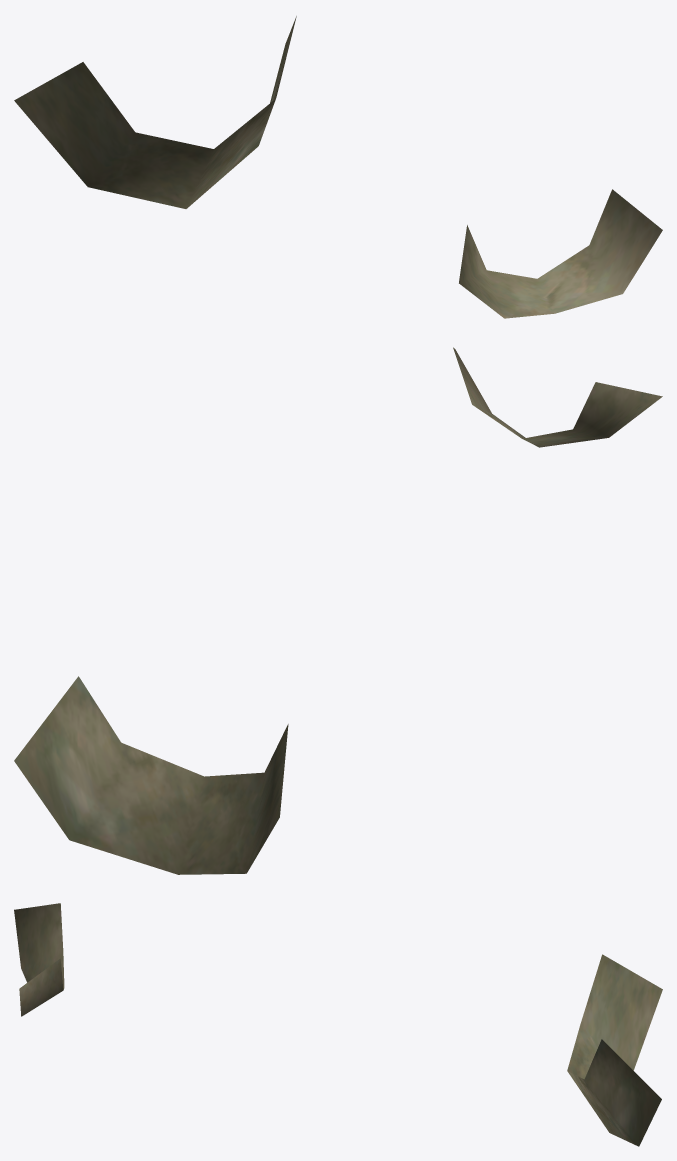
File: EKH_CAVERNS_PS_CA_LINE325.fbx
3 views of the same model, one above another, from view 1: azimuth 30°, elevation 25°; view 2: azimuth 150°, elevation 25°; view 3: azimuth 270°, elevation 25° (orthographic). The views are drawn at different scales.
Parts seen in each view (by area): view 1: EKH_CAVERNS_PS_CA_LINE325; view 2: EKH_CAVERNS_PS_CA_LINE325; view 3: EKH_CAVERNS_PS_CA_LINE325.
Boxes of the visible parts, bbox=[...] form: EKH_CAVERNS_PS_CA_LINE325: bbox=[14, 16, 662, 318]; EKH_CAVERNS_PS_CA_LINE325: bbox=[14, 347, 662, 874]; EKH_CAVERNS_PS_CA_LINE325: bbox=[14, 903, 662, 1146].
Size of the model in its own units: 19102 by 17549 by 50948.
1 material, 1 textured.
